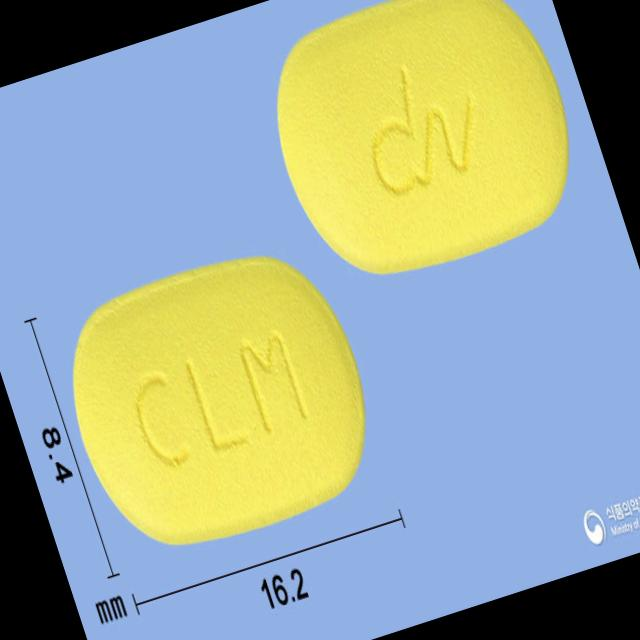Clamicin: (42, 226, 400, 578), (244, 0, 603, 307)
